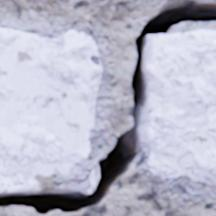brick: (0, 29, 101, 192), (144, 30, 215, 185), (87, 169, 93, 184)
crack: (0, 1, 215, 214)
